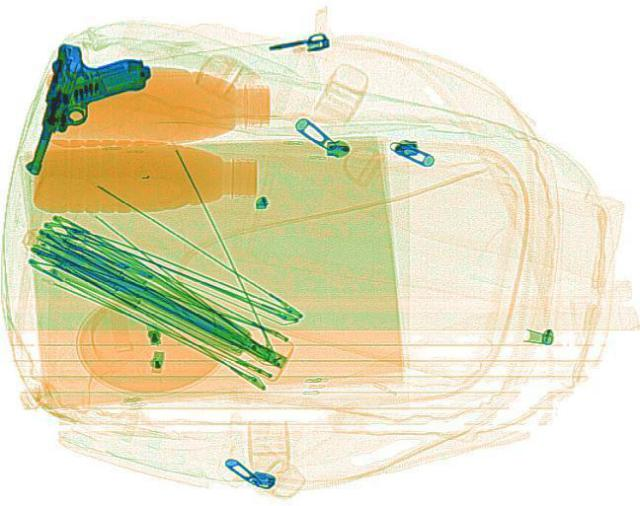Gun: (23, 40, 154, 185)
